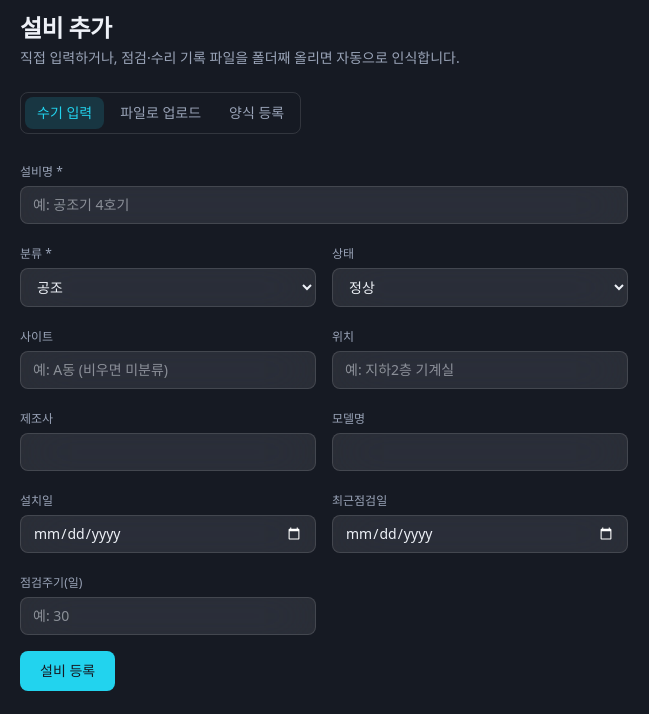
Test: AddEquipment 수기 입력 › 필수 항목만 채워서 제출하면 useAppStore에 설비가 추가된다
In the field labelled "설비명 *": (324, 205) [20,186,628,224], type "테스트 공조기"
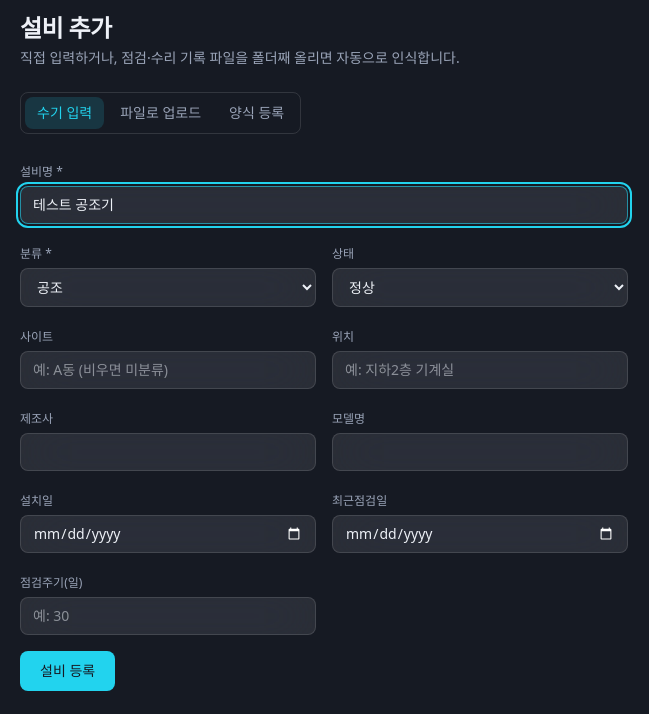
Click the button "설비 등록": (68, 671) [20,651,115,691]
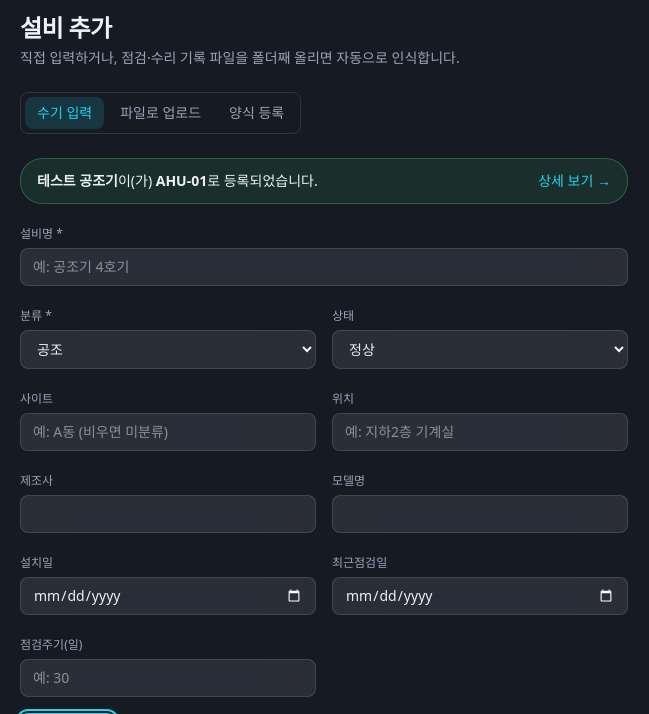
Check: the text "테스트 공조기" is shown, box [37,171,118,190]
Check: the text "등록되었습니다" is shown, box [207,171,318,190]
